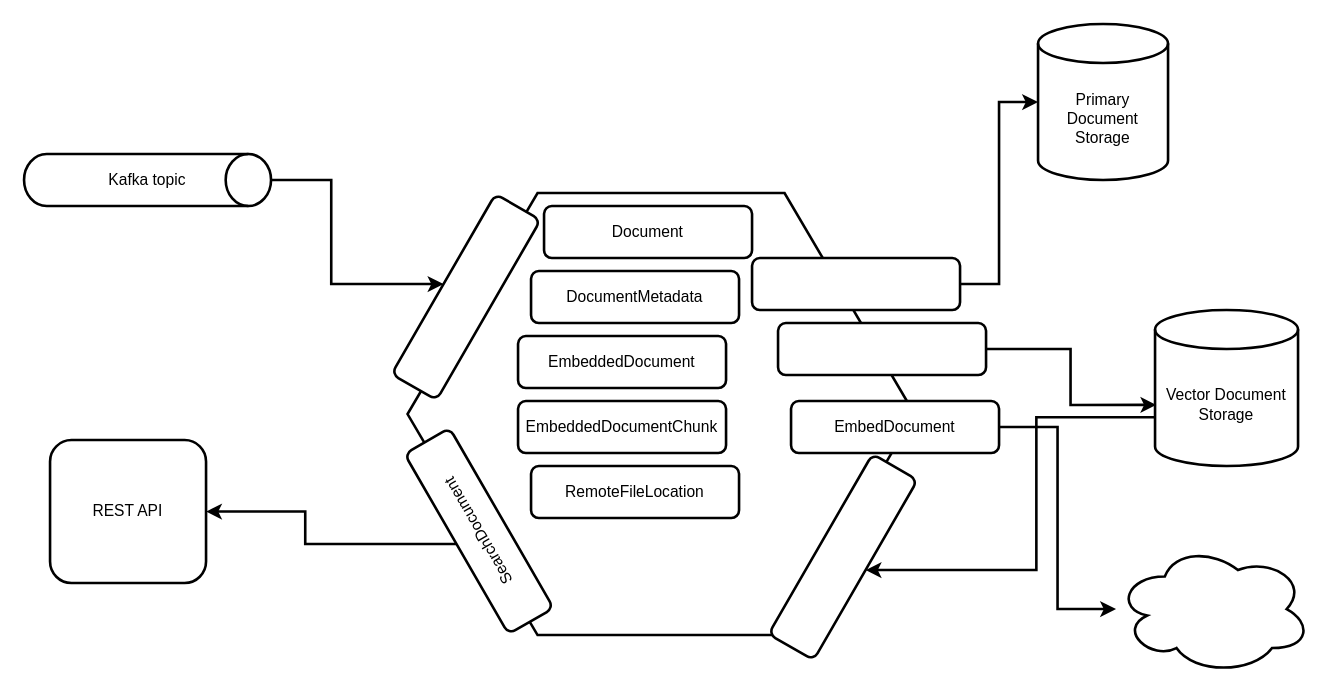
The diagram is 1334 pixels wide and 697 high, and some of its shapes have lost their labels. The shapes that lost their labels are listed below. From the top down, each one's centre as x and y in pixels, then its label:
At [465,296]: "ReceiveDocumentMetadata".
At [855,283]: "FetchDocument".
At [881,348]: "StoreDocument".
At [842,556]: "RetrieveDocuments".
At [1213,608]: "Embedding Service".
